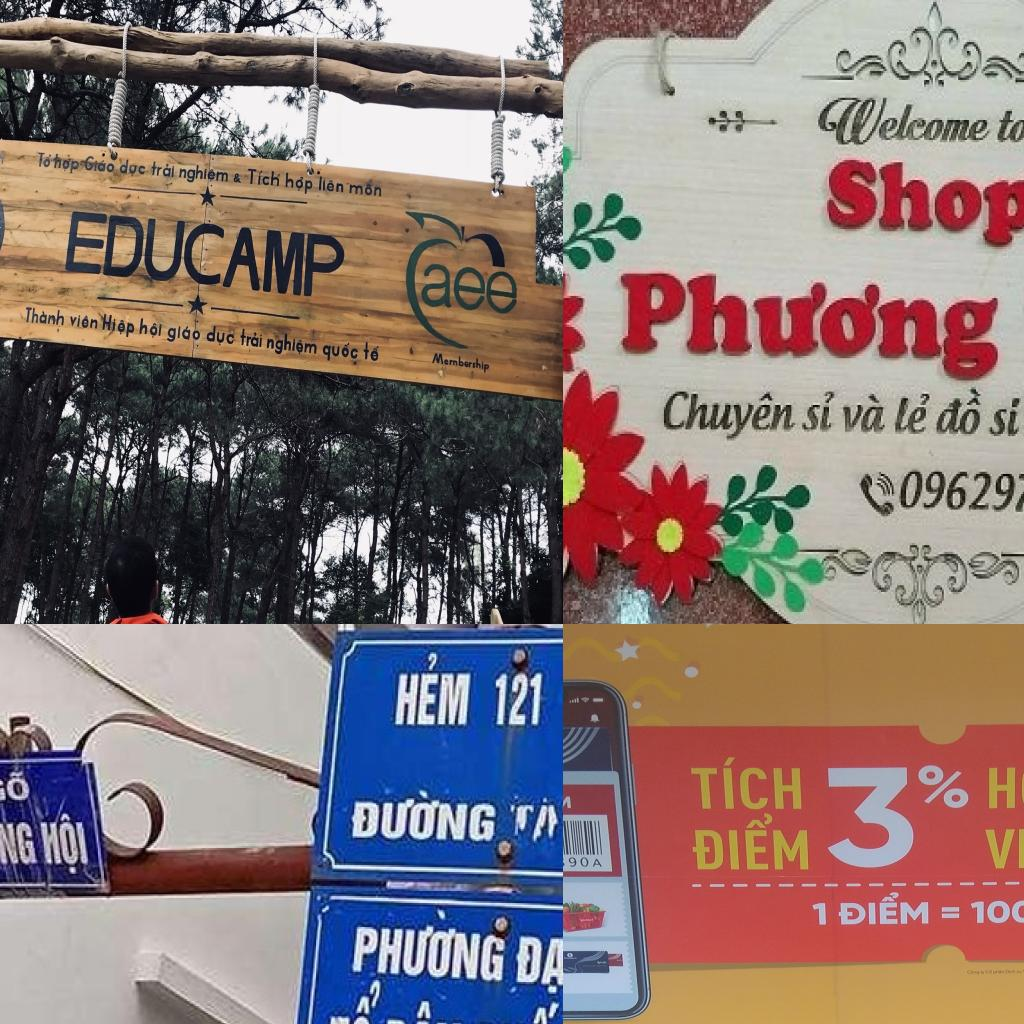text: (612, 265, 1008, 387), (56, 206, 353, 308), (812, 153, 1024, 260), (815, 759, 974, 873), (344, 900, 512, 987), (813, 93, 997, 151), (658, 380, 806, 450), (347, 788, 509, 851), (684, 811, 812, 872), (388, 645, 478, 731), (680, 752, 807, 812), (419, 256, 522, 320), (35, 810, 97, 882), (830, 885, 932, 928), (930, 385, 990, 445), (487, 670, 547, 730), (510, 930, 563, 997), (317, 977, 386, 1024), (462, 992, 563, 1024), (371, 996, 471, 1024), (979, 751, 1024, 811), (892, 387, 936, 443), (798, 385, 842, 440), (0, 810, 41, 868), (842, 392, 888, 440), (977, 824, 1024, 870), (428, 349, 492, 380), (963, 896, 1024, 928), (987, 394, 1024, 445), (0, 765, 36, 806), (994, 104, 1024, 151), (176, 163, 230, 186), (264, 334, 318, 357), (99, 308, 136, 341), (24, 303, 68, 329), (202, 321, 236, 352), (281, 169, 315, 198), (344, 178, 384, 201), (164, 321, 202, 345), (245, 167, 282, 191), (321, 340, 361, 362), (82, 151, 116, 175), (50, 150, 80, 177), (314, 173, 346, 198), (68, 309, 101, 333), (136, 313, 164, 341), (238, 323, 264, 351), (149, 158, 177, 182), (118, 156, 148, 178), (810, 899, 830, 928), (563, 855, 607, 868), (361, 339, 382, 365), (36, 148, 53, 172), (0, 147, 8, 167), (616, 959, 624, 962)
